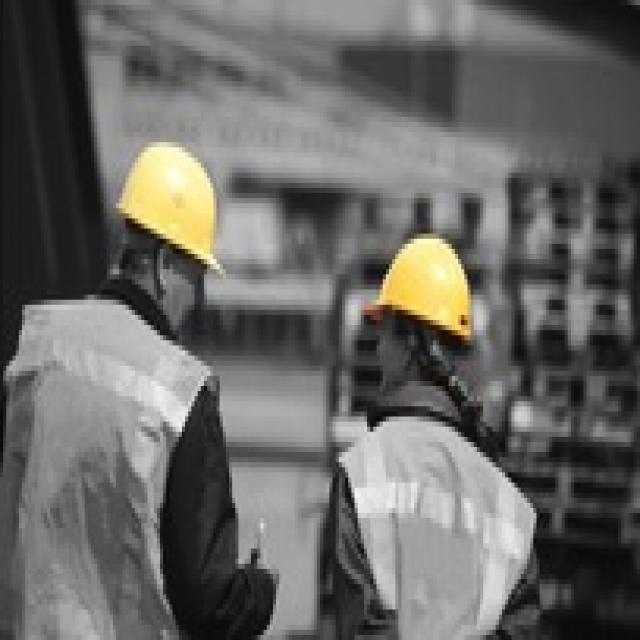Reflective-Jacket: (3, 294, 225, 640), (330, 401, 540, 640)
Safety-Helmet: (110, 132, 229, 285), (358, 224, 480, 356)
